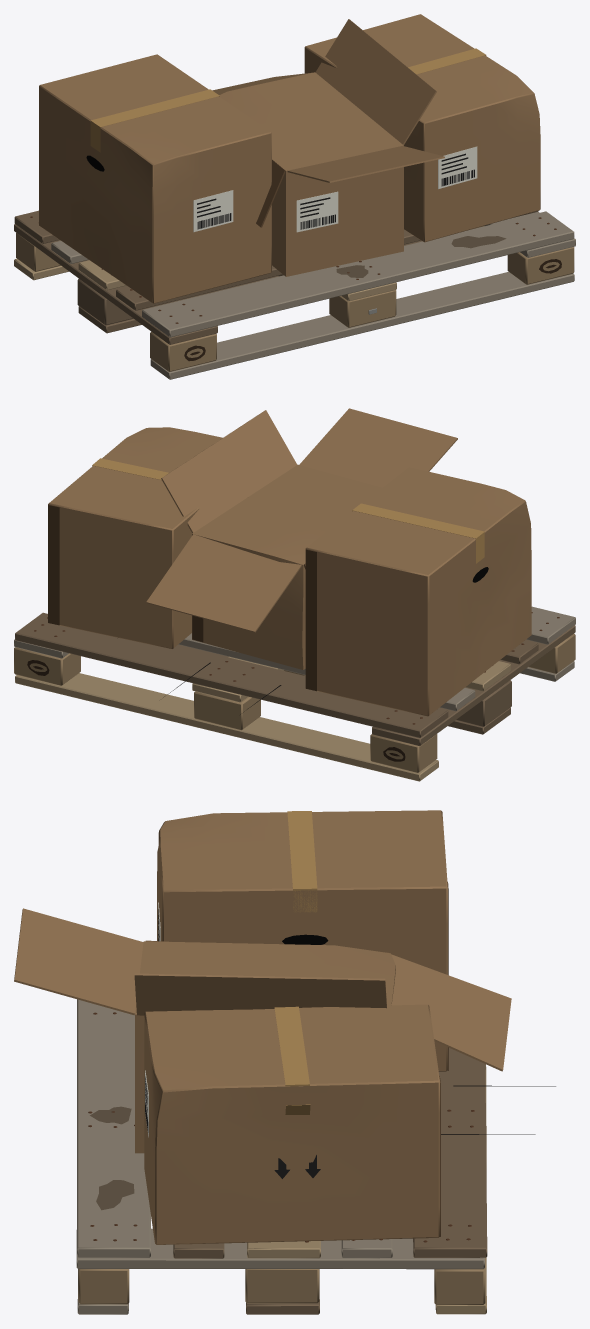
Rendered from pallet@1.glb.
3 views of the same model, one above another, from view 1: azimuth 30°, elevation 25°; view 2: azimuth 150°, elevation 25°; view 3: azimuth 270°, elevation 25° (orthographic). The views are drawn at different scales.
Visible parts, largest first — view 1: palette9, palette0, palette3, palette1, palette12, palette11, palette2, palette13, palette8, palette14; view 2: palette9, palette1, palette2, palette3, palette10, palette0, palette11; view 3: palette9, palette0, palette1, palette3, palette11, palette2, palette8, palette5.
Boxes of the visible parts, x1,y1,x2,y2 form: palette9: (39,14,540,303); palette0: (51,211,575,379); palette3: (16,226,574,371); palette1: (14,210,538,344); palette12: (193,146,477,232); palette11: (90,48,486,152); palette2: (14,258,396,301); palette13: (197,153,474,229); palette8: (336,236,506,277); palette14: (256,160,285,227); palette9: (48,408,531,716); palette1: (15,612,575,746); palette2: (15,656,510,781); palette3: (14,633,575,772); palette10: (48,505,316,691); palette0: (14,606,575,711); palette11: (92,458,484,563); palette9: (14,810,511,1244); palette0: (76,999,484,1314); palette1: (173,1048,487,1314); palette3: (78,1064,486,1304); palette11: (274,811,317,1114); palette2: (247,1064,486,1314); palette8: (90,1106,134,1210); palette5: (282,934,555,1134).
Bounding box in the file's own units: 1.21 × 0.5766 × 1.1.
